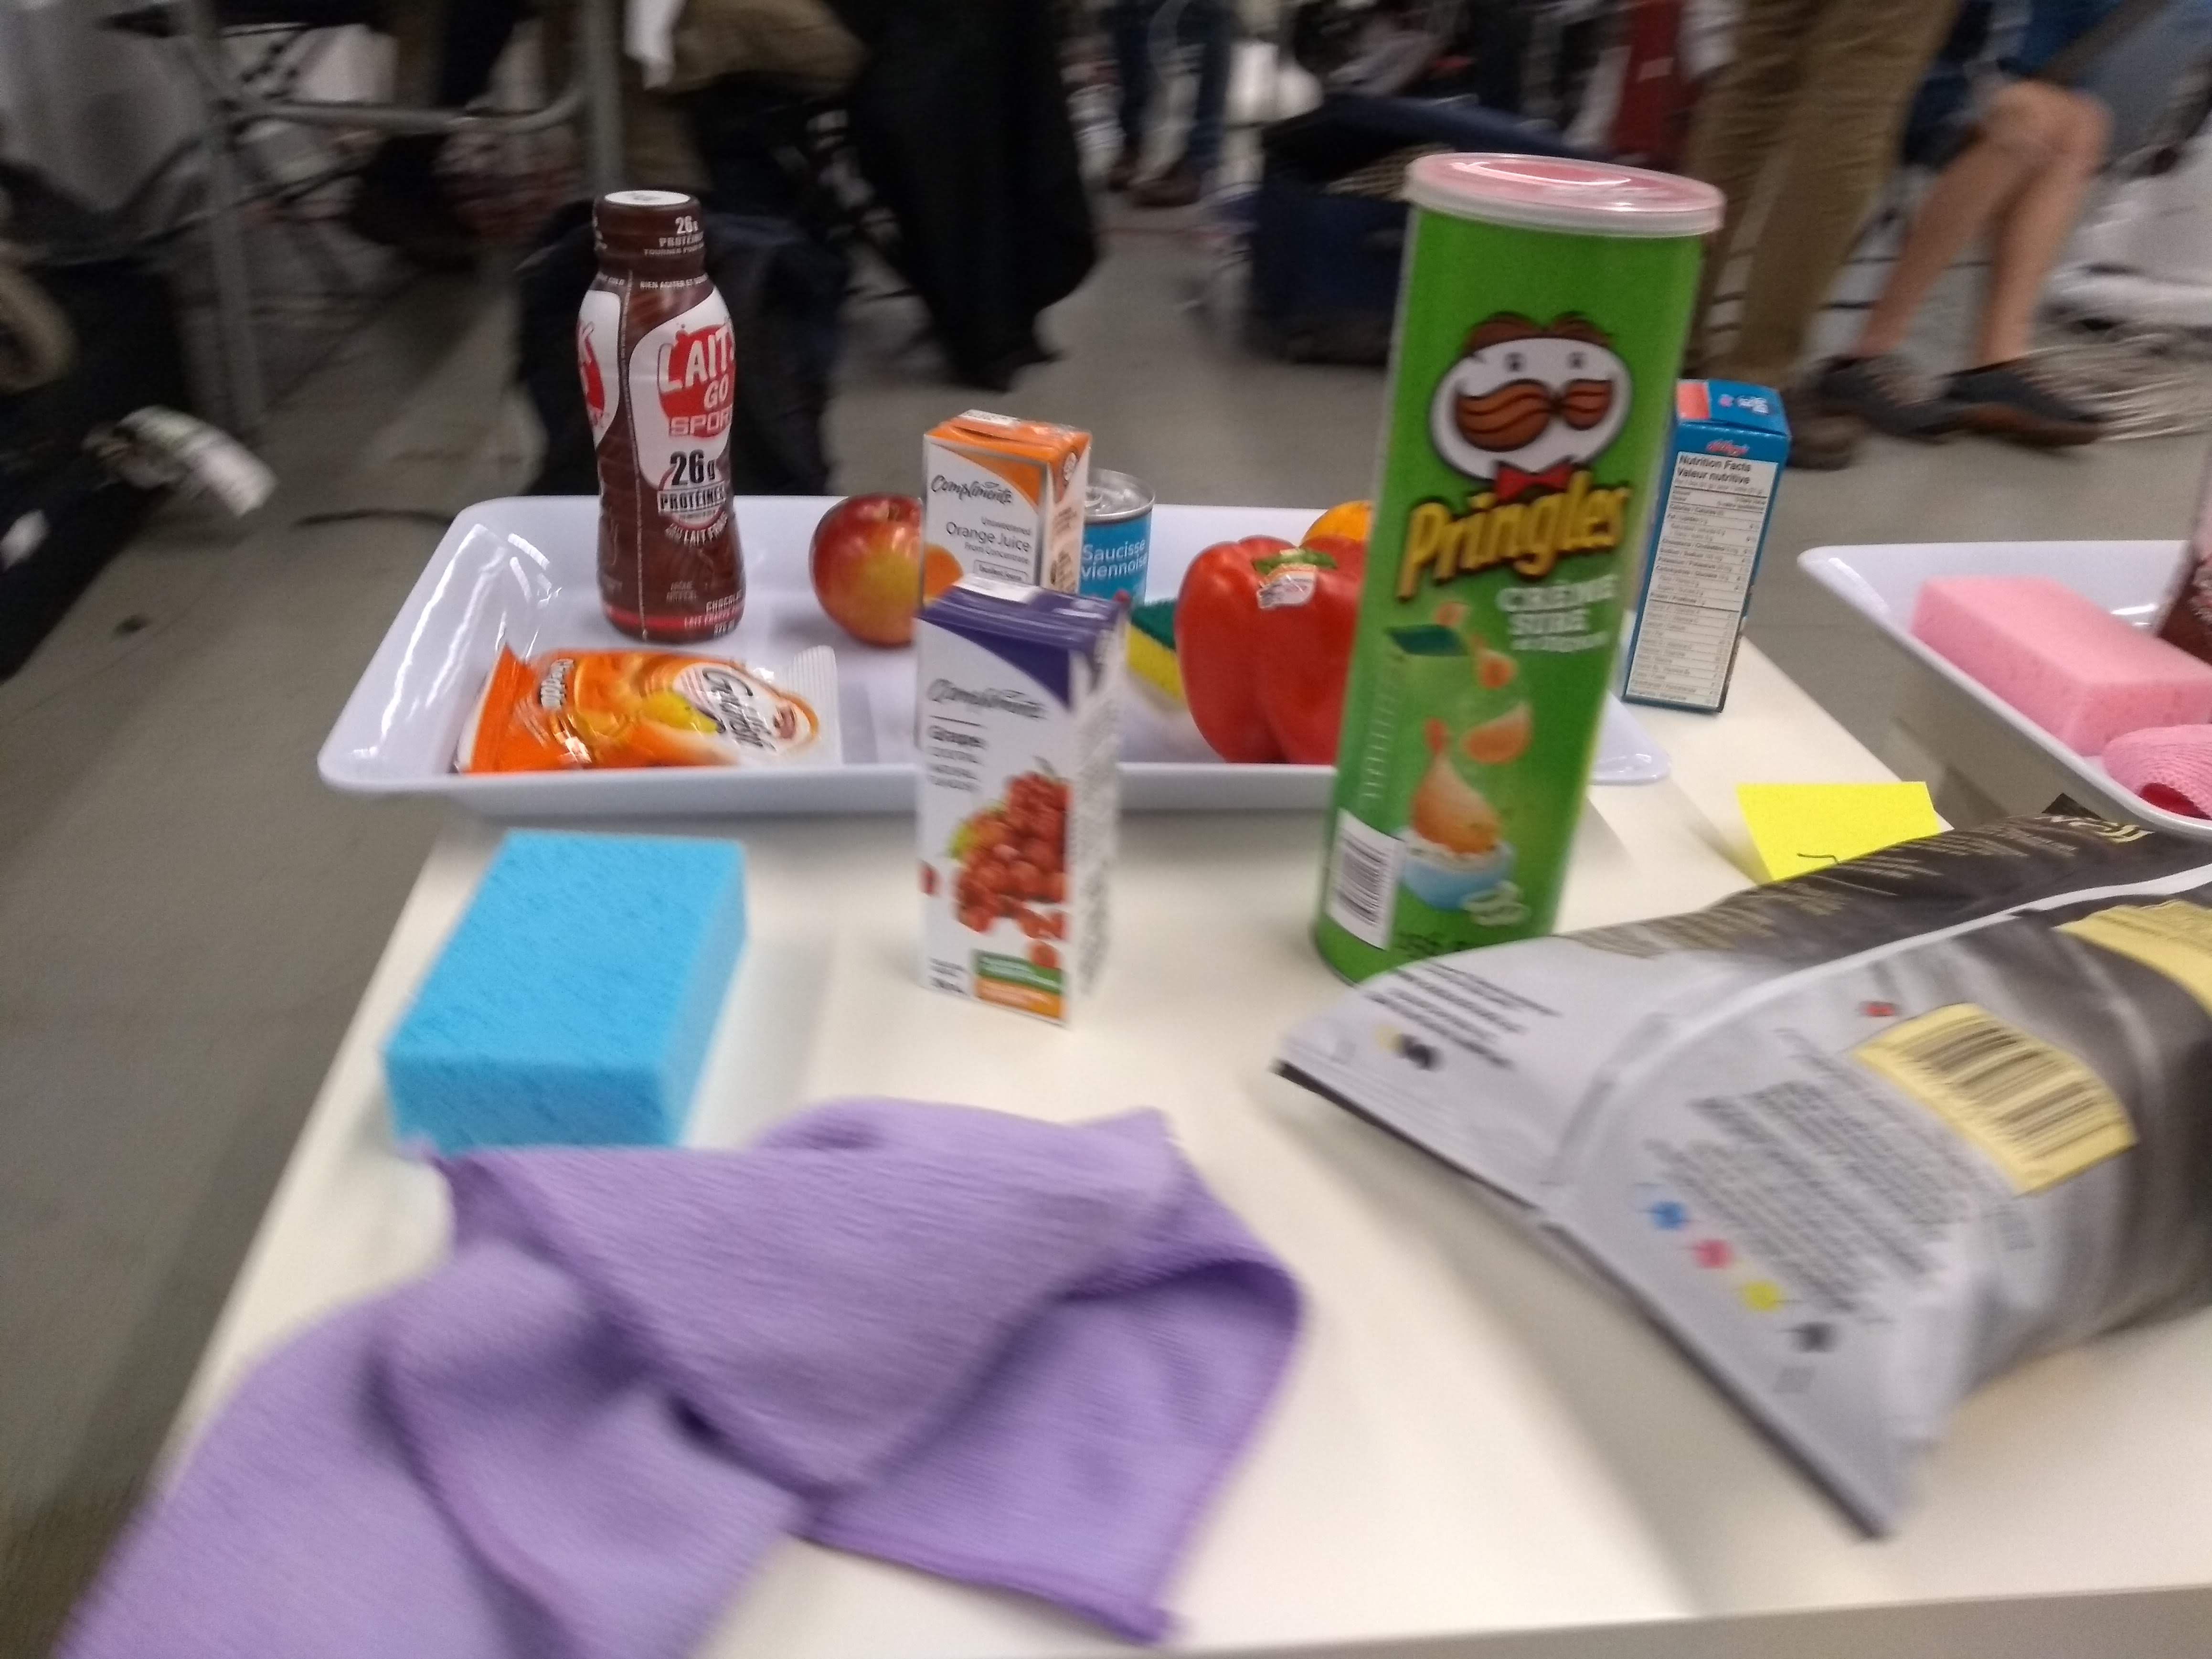apple: (810, 493, 925, 653)
cereal: (1611, 371, 1799, 727)
chocolate_drink: (571, 178, 765, 650)
crackers: (444, 638, 860, 798)
grape_juice: (907, 579, 1129, 1037)
pringles: (1301, 148, 1731, 1007)
sponge_opl: (378, 817, 768, 1168)
